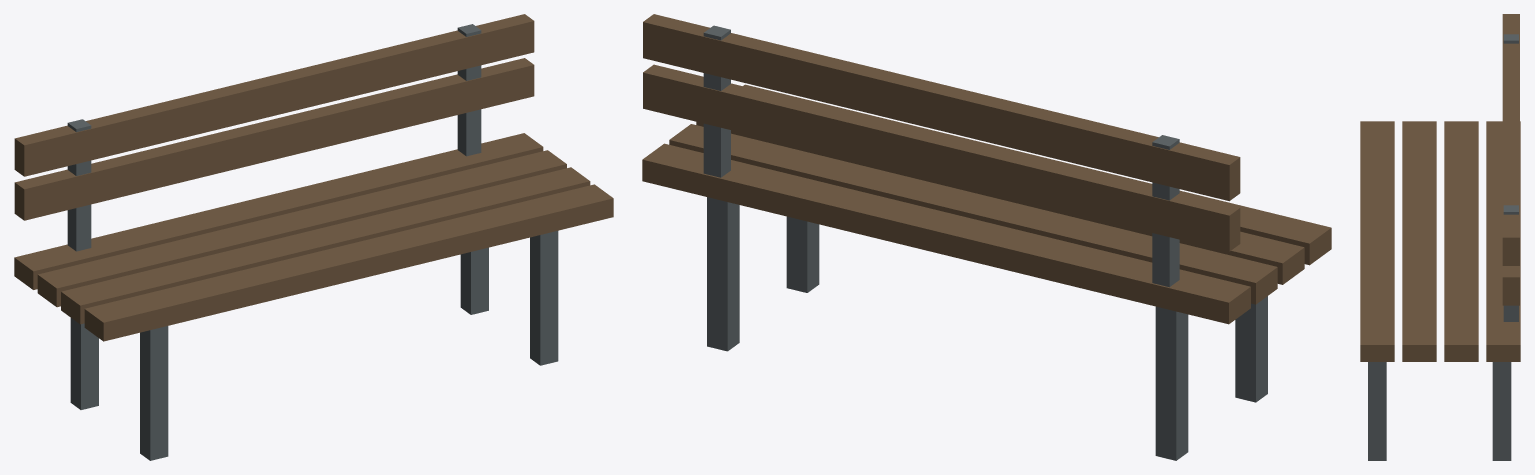
File: bench.glb
3 views of the same model, side by side, from view 1: azimuth 30°, elevation 25°; view 2: azimuth 150°, elevation 25°; view 3: azimuth 270°, elevation 25° (orthographic). The views are drawn at different scales.
Parts seen in each view (by area): view 1: bench; view 2: bench; view 3: bench.
Boxes of the visible parts, left/top/right/bottom form: bench: left=14, top=14, right=613, bottom=460; bench: left=642, top=14, right=1331, bottom=460; bench: left=1360, top=14, right=1520, bottom=460.
Size of the model in its own units: 1.7 by 0.88 by 0.515.
